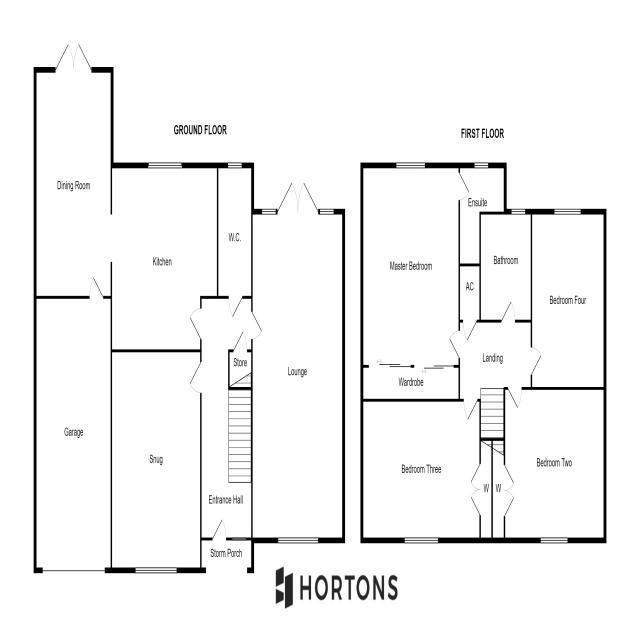DOOR: (87, 271, 109, 299), (187, 355, 202, 396), (188, 305, 202, 342), (251, 306, 264, 344), (462, 399, 481, 423), (506, 386, 525, 410), (227, 295, 245, 320), (458, 170, 471, 203), (211, 516, 228, 541), (500, 298, 517, 323), (531, 343, 543, 377), (448, 329, 460, 360)
DOUBLE DOOR: (277, 180, 320, 215), (53, 41, 95, 73)
ROOM: (252, 176, 345, 544), (360, 162, 460, 402), (111, 348, 201, 572), (360, 398, 493, 544), (491, 387, 607, 543), (531, 210, 606, 390)
WINDOW: (277, 534, 320, 546), (134, 563, 177, 574), (146, 159, 184, 170), (403, 535, 439, 546), (395, 159, 425, 171), (540, 534, 569, 546), (554, 207, 582, 216), (473, 160, 489, 171), (319, 206, 335, 216), (227, 160, 243, 169), (510, 207, 526, 216), (261, 207, 276, 216)
